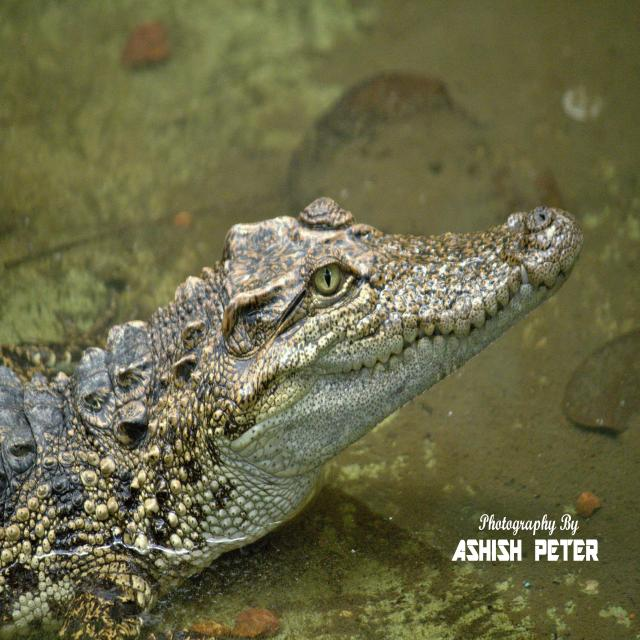crocodile: (0, 149, 610, 640)
